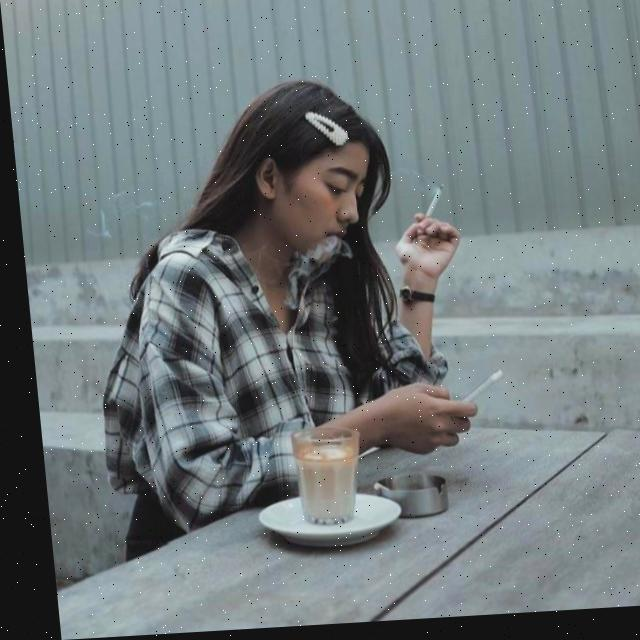cigarette: (417, 188, 443, 221)
